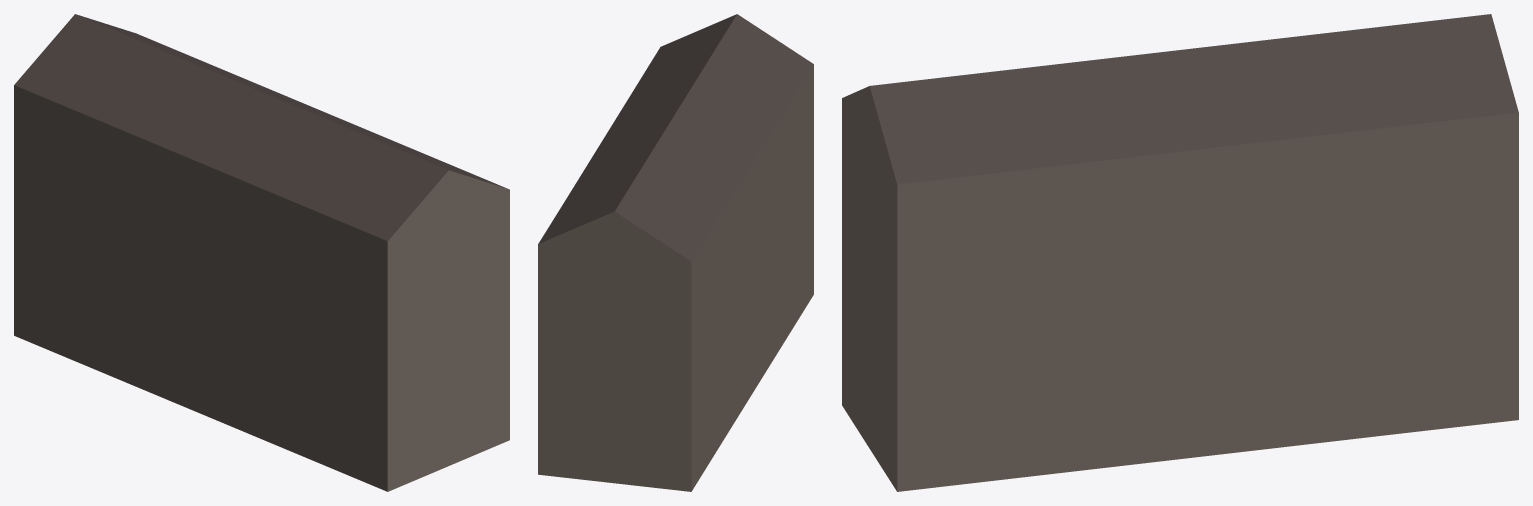
The picture shows the model from 3 angles, left to right: view 1: azimuth 30°, elevation 25°; view 2: azimuth 150°, elevation 25°; view 3: azimuth 270°, elevation 25°; orthographic projection. The views are drawn at different scales.
Parts seen in each view (by area): view 1: HP-w776801007; view 2: HP-w776801007; view 3: HP-w776801007.
Part boxes in pixels (left/top/right/bottom): HP-w776801007: left=14, top=14, right=509, bottom=491; HP-w776801007: left=538, top=14, right=813, bottom=491; HP-w776801007: left=842, top=14, right=1518, bottom=491.
Bounding box in the file's own units: 6.63 × 7.08 × 11.97.
